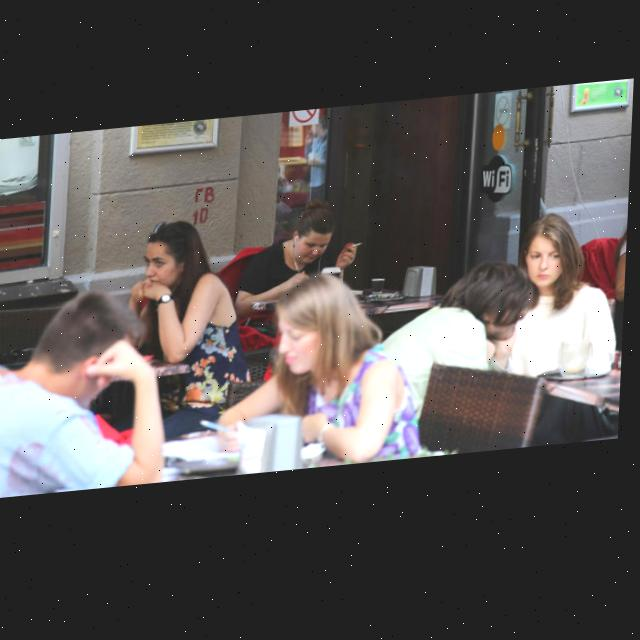cigarette: (354, 250, 365, 254)
